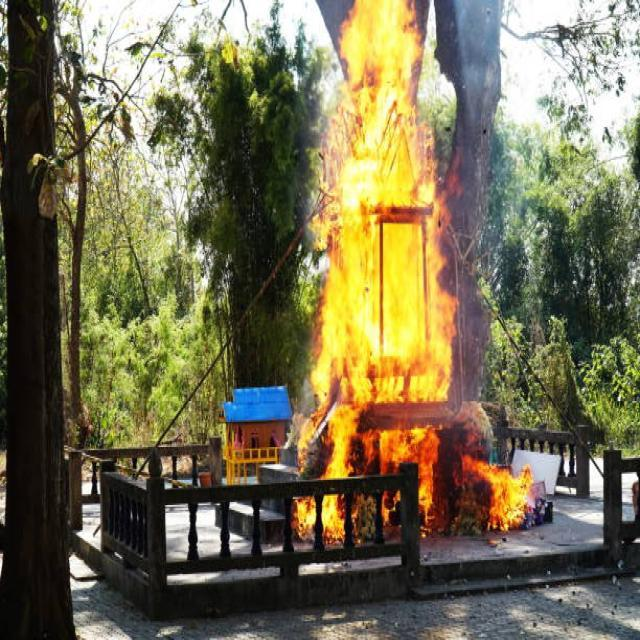Fire: (296, 0, 534, 542)
